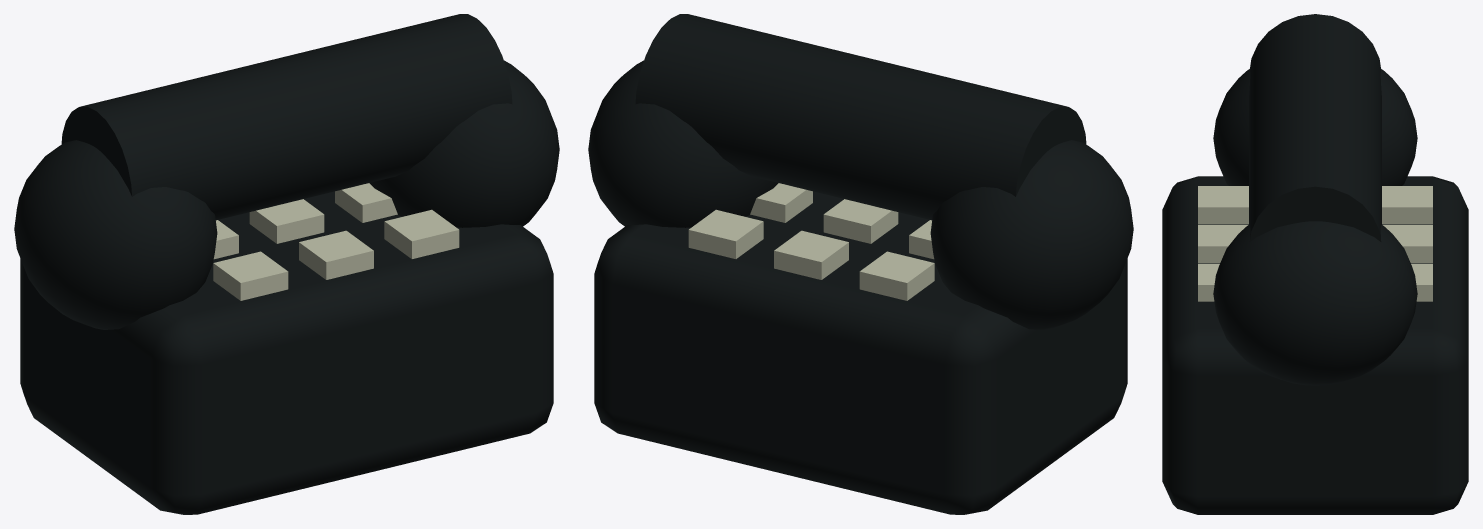
File: Phone.obj
The picture shows the model from 3 angles, left to right: view 1: azimuth 30°, elevation 25°; view 2: azimuth 150°, elevation 25°; view 3: azimuth 270°, elevation 25°; orthographic projection. The views are drawn at different scales.
Parts seen in each view (by area): view 1: Phone; view 2: Phone; view 3: Phone.
Part boxes in pixels (<box>): Phone: <box>14,14,559,514</box>; Phone: <box>588,14,1133,514</box>; Phone: <box>1162,14,1468,514</box>.
Size of the model in its own units: 0.54 by 0.365 by 0.3.
